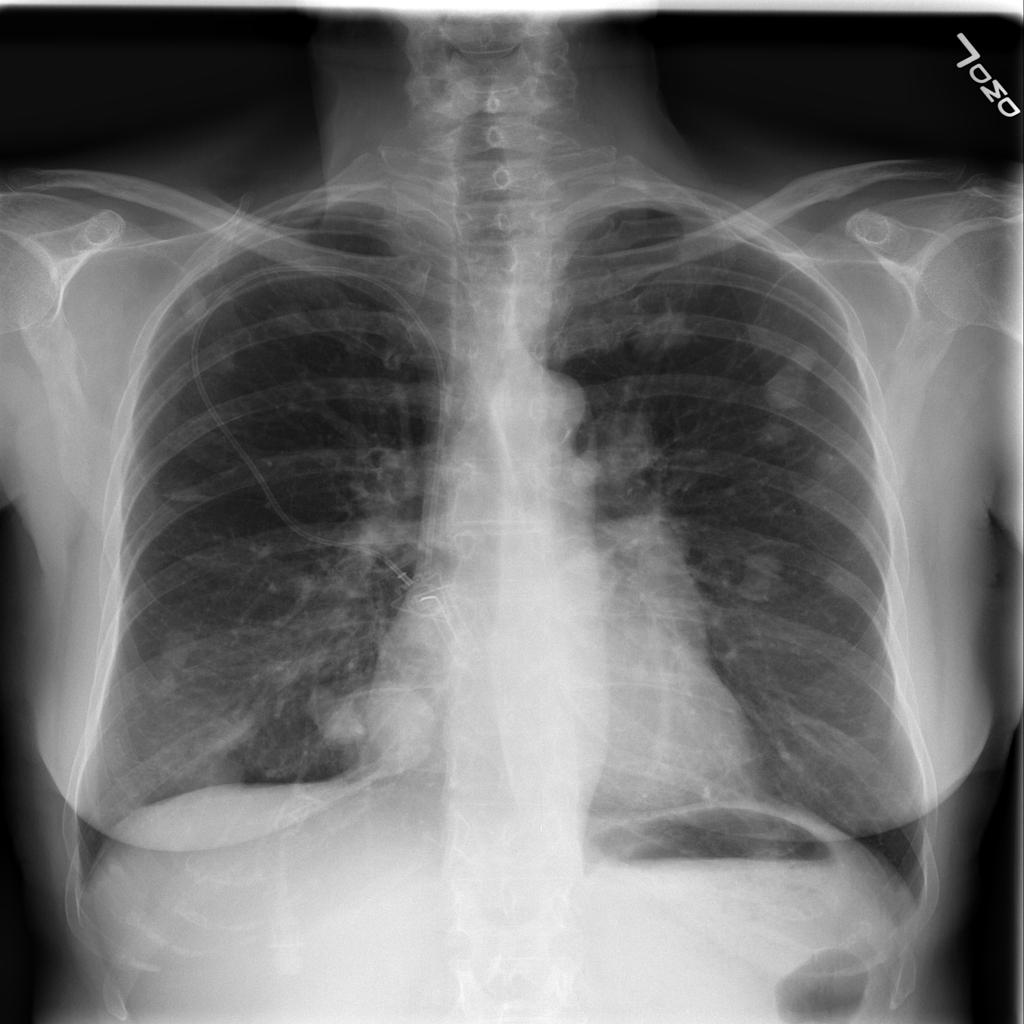nodule: (330, 663, 453, 777), (584, 407, 673, 482), (720, 545, 801, 611), (748, 353, 823, 418), (802, 440, 862, 484), (746, 413, 805, 457)
